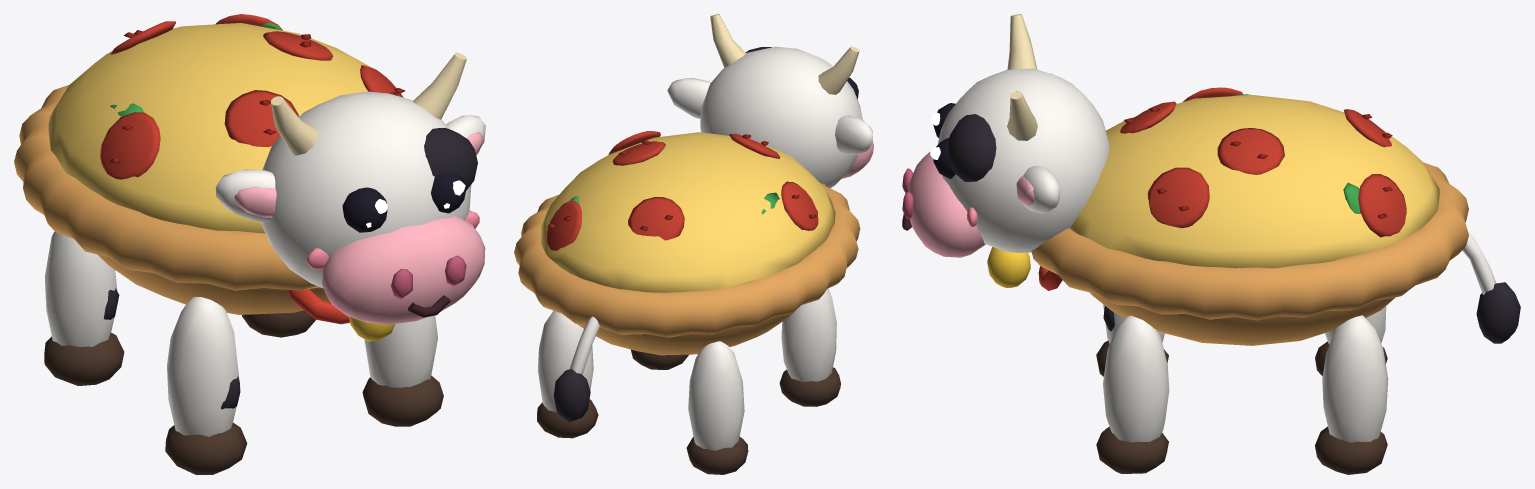
File: pilot_ku_pizza_lav.glb
3 views of the same model, side by side, from view 1: azimuth 30°, elevation 25°; view 2: azimuth 150°, elevation 25°; view 3: azimuth 270°, elevation 25° (orthographic). The views are drawn at different scales.
Parts seen in each view (by area): view 1: kropp, hode, bein_vf, bein_vb, bein_hf, bein_hb; view 2: kropp, hode, bein_vb, bein_vf, bein_hb, hale, bein_hf; view 3: kropp, hode, bein_hf, bein_hb, hale, bein_vb, bein_vf.
Boxes of the visible parts, bbox=[...] form: kropp: bbox=[14, 14, 412, 314]; hode: bbox=[215, 52, 485, 341]; bein_vf: bbox=[165, 297, 247, 474]; bein_vb: bbox=[44, 231, 124, 385]; bein_hf: bbox=[362, 315, 443, 426]; bein_hb: bbox=[242, 310, 315, 337]; kropp: bbox=[514, 131, 860, 355]; hode: bbox=[667, 14, 873, 188]; bein_vb: bbox=[686, 341, 748, 474]; bein_vf: bbox=[779, 289, 840, 406]; bein_hb: bbox=[537, 310, 598, 438]; hale: bbox=[553, 316, 600, 422]; bein_hf: bbox=[631, 349, 688, 369]; kropp: bbox=[1031, 87, 1468, 345]; hode: bbox=[902, 14, 1109, 290]; bein_hf: bbox=[1096, 315, 1169, 473]; bein_hb: bbox=[1315, 315, 1388, 474]; hale: bbox=[1462, 232, 1520, 343]; bein_vb: bbox=[1315, 306, 1387, 376]; bein_vf: bbox=[1096, 304, 1168, 376].
Size of the model in its own units: 1.07 by 1.13 by 1.7.
